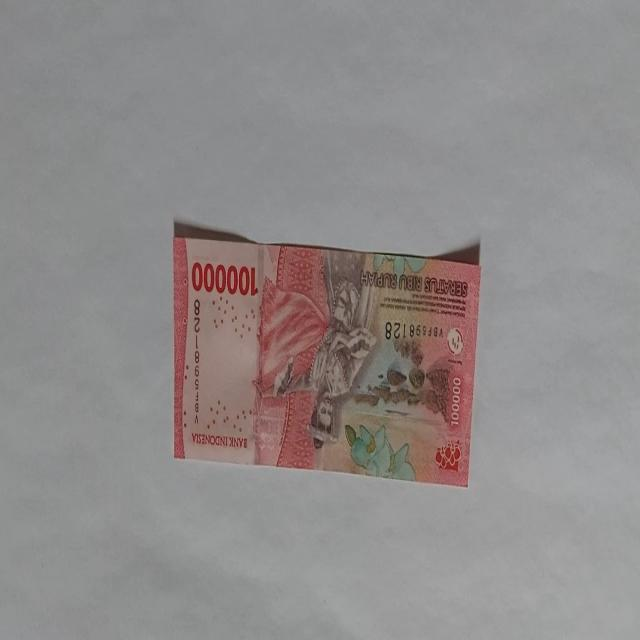seratus ribu rupiah: (172, 232, 482, 487)
